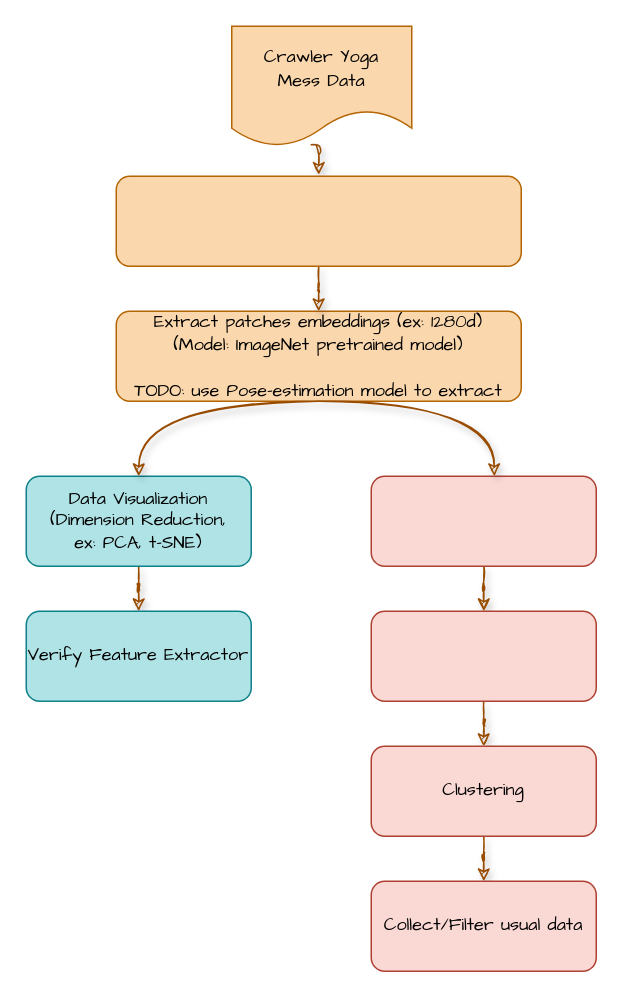
Image size: 623x998. Some labels were removed from this diagram. The centre of each missing label's shape, as x and y in pixels:
Crop People Patches (Object Detection) TODO: use Mask-RCNN to remove background: (318,220)
Reduce Dimention (ex: 128d) (Optional): (483,520)
Select number of cluter (k-means elbow method): (483,655)
